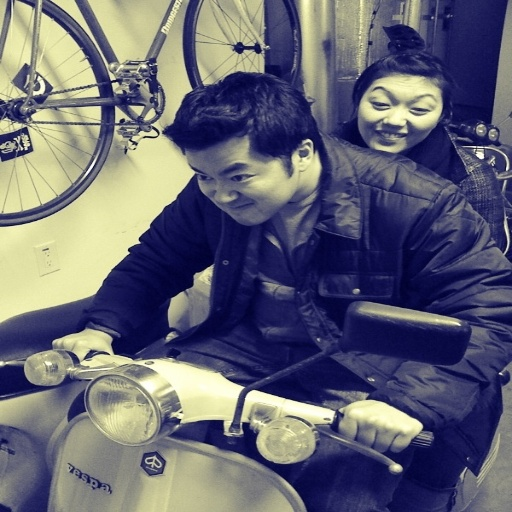hand: (340, 392, 436, 474), (46, 329, 116, 362)
